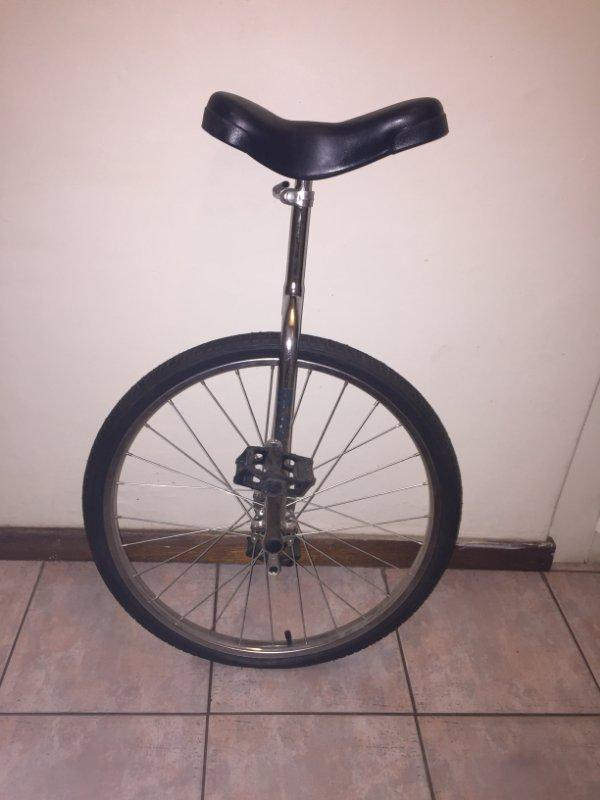seat: (189, 79, 467, 192)
wheel: (74, 310, 474, 674)
